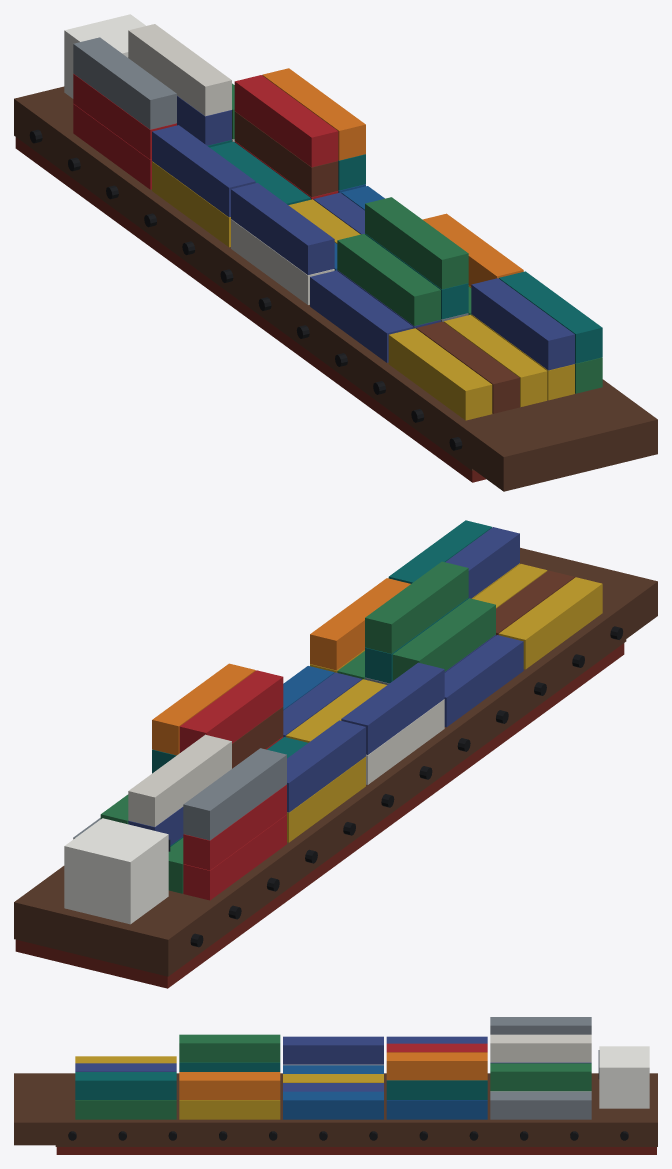
File: container_barge_b.glb
The picture shows the model from 3 angles, top to bottom: view 1: azimuth 30°, elevation 25°; view 2: azimuth 150°, elevation 25°; view 3: azimuth 270°, elevation 25°; orthographic projection. The views are drawn at different scales.
Parts seen in each view (by area): view 1: barge; view 2: barge; view 3: barge.
Part boxes in pixels (x1,y1,x2,y2): barge: (14,14,657,491); barge: (14,520,657,988); barge: (14,1017,657,1154).
Size of the model in its own units: 15.2 by 12.08 by 77.
